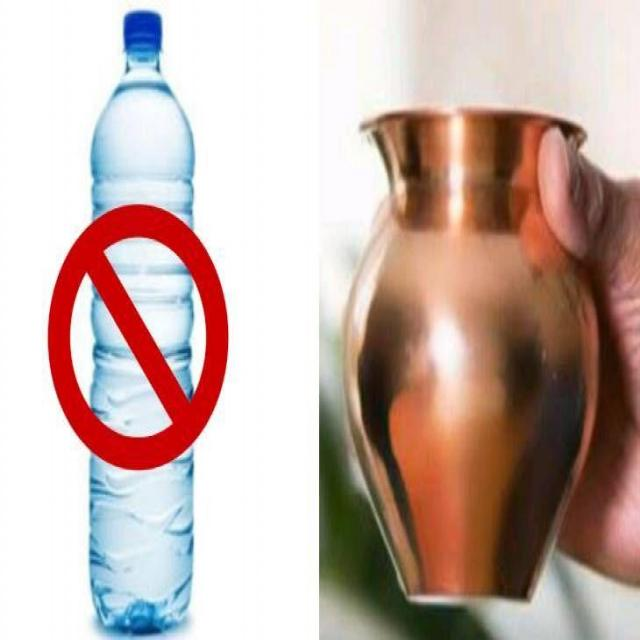metel: (331, 81, 582, 597)
plastic_bottle: (91, 12, 206, 624)
